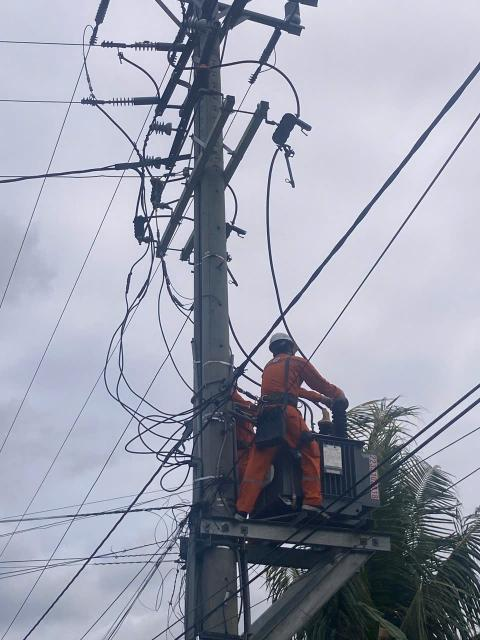gloves: (314, 390, 338, 419), (330, 388, 349, 405)
harness: (242, 390, 307, 413)
helmet: (263, 328, 301, 358)
shoes: (294, 501, 332, 523), (229, 506, 251, 527)
